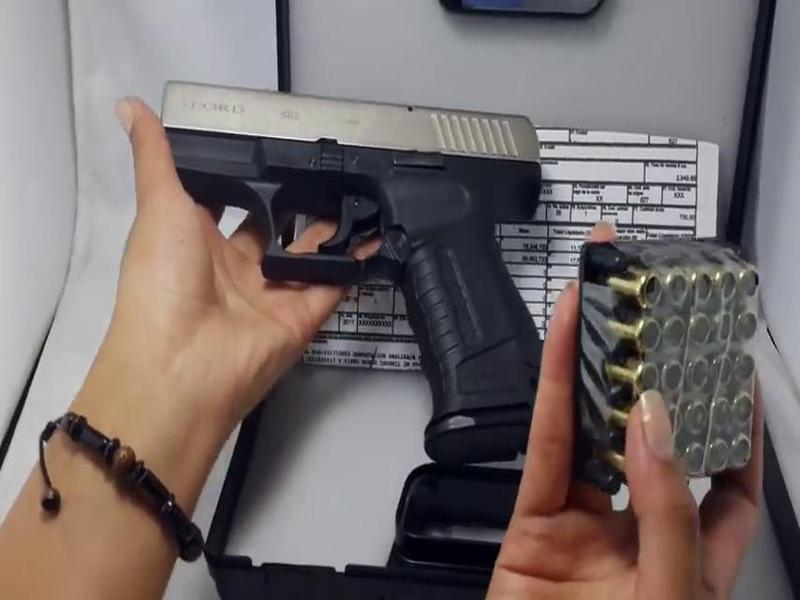Pistola: (139, 63, 560, 484)
